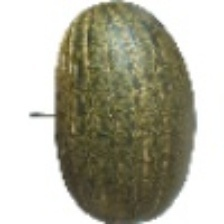honeydew: (45, 30, 219, 201)
